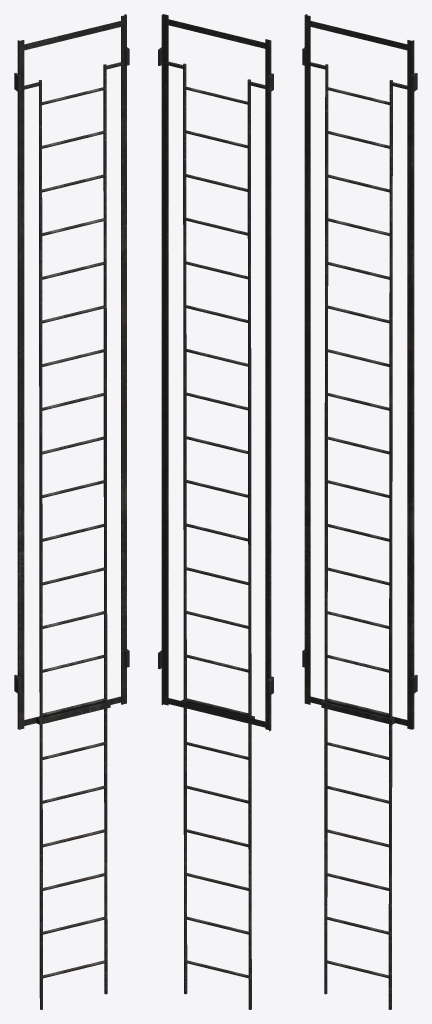
Rendered from yangin_dik_merdiven_6_5m.gltf.
3 renders of one model, left to right at view 1: azimuth 30°, elevation 25°; view 2: azimuth 150°, elevation 25°; view 3: azimuth 330°, elevation 25°, orthographic.
Parts seen in each view (by area): view 1: yangin_dik_merdiven_6_5m; view 2: yangin_dik_merdiven_6_5m; view 3: yangin_dik_merdiven_6_5m.
Part boxes in pixels (x1,y1,x2,y2): yangin_dik_merdiven_6_5m: (14, 14, 129, 1009); yangin_dik_merdiven_6_5m: (158, 14, 273, 1009); yangin_dik_merdiven_6_5m: (302, 14, 417, 1009).
Size of what is drawn, in the model's own units: 0.775 by 6.47 by 0.0644.
Materials: 1 (1 with a texture image).
